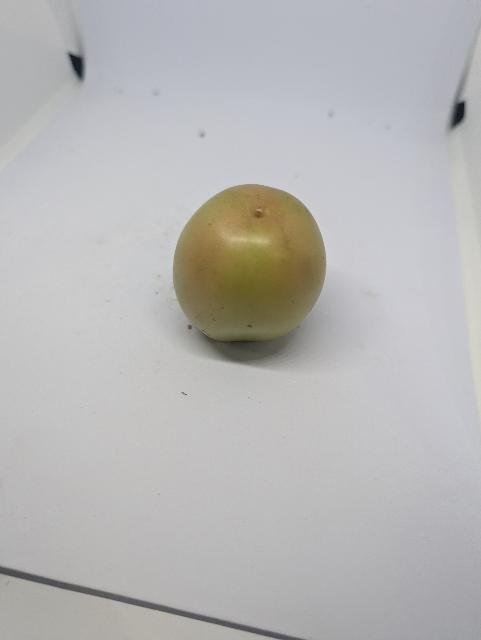breaker: (170, 182, 331, 350)
